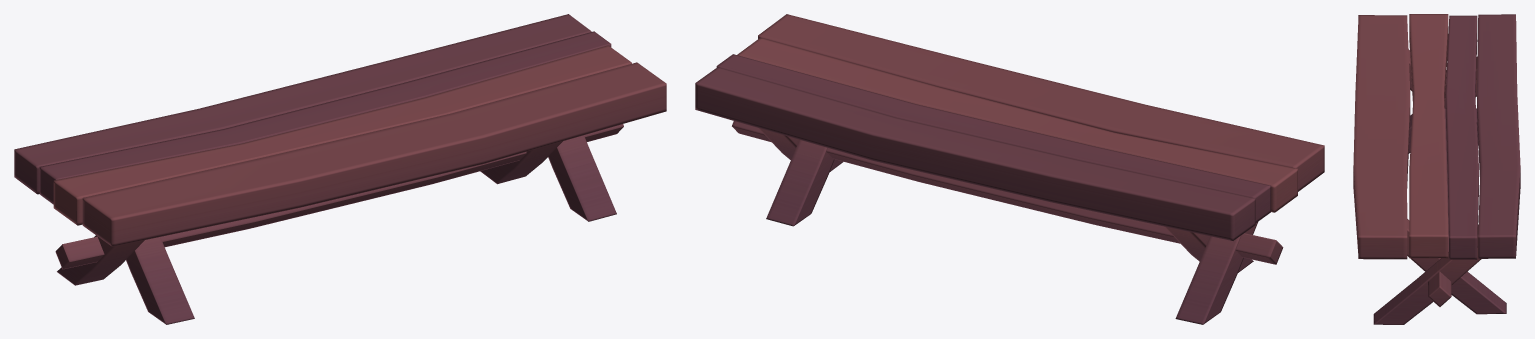
The model's file is Table_007.glb.
The picture shows the model from 3 angles, left to right: view 1: azimuth 30°, elevation 25°; view 2: azimuth 150°, elevation 25°; view 3: azimuth 270°, elevation 25°; orthographic projection. The views are drawn at different scales.
Visible parts, largest first — view 1: Cube.004; view 2: Cube.004; view 3: Cube.004.
Boxes of the visible parts, <box> form: Cube.004: <box>14,14,666,324</box>; Cube.004: <box>695,14,1324,324</box>; Cube.004: <box>1353,14,1520,324</box>.
Bounding box in the file's own units: 6.93 × 1.54 × 2.19.
Materials: 1 (1 with a texture image).
